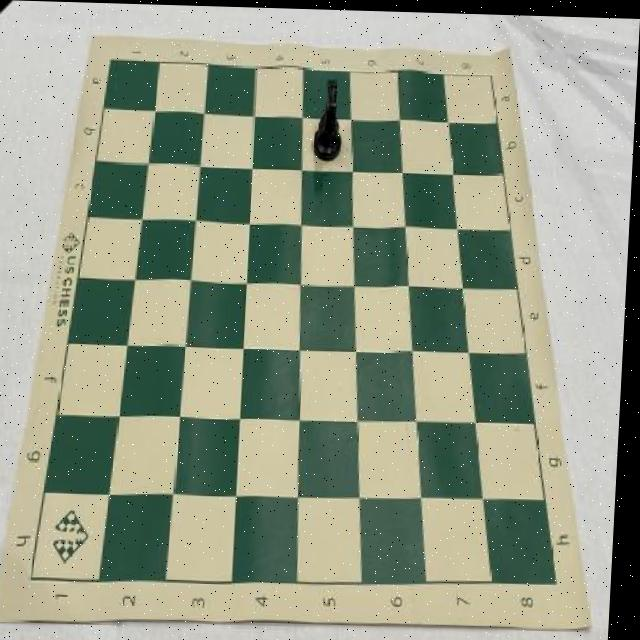black-king: (312, 77, 348, 161)
